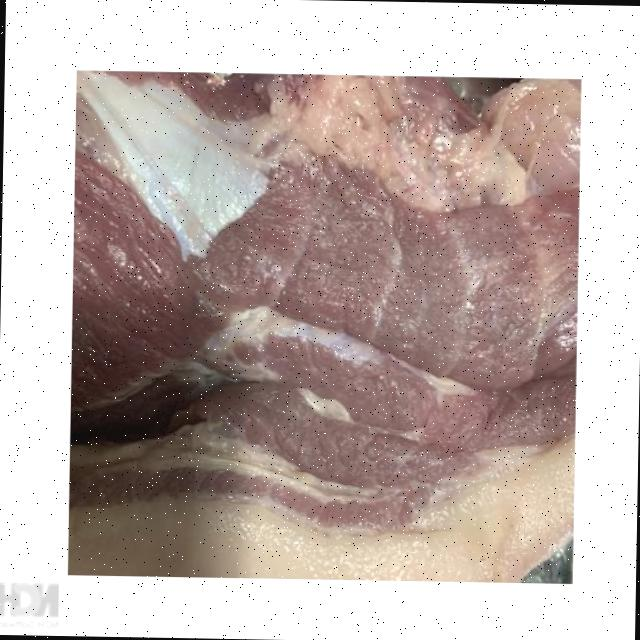rotten meat: (49, 48, 602, 590)
